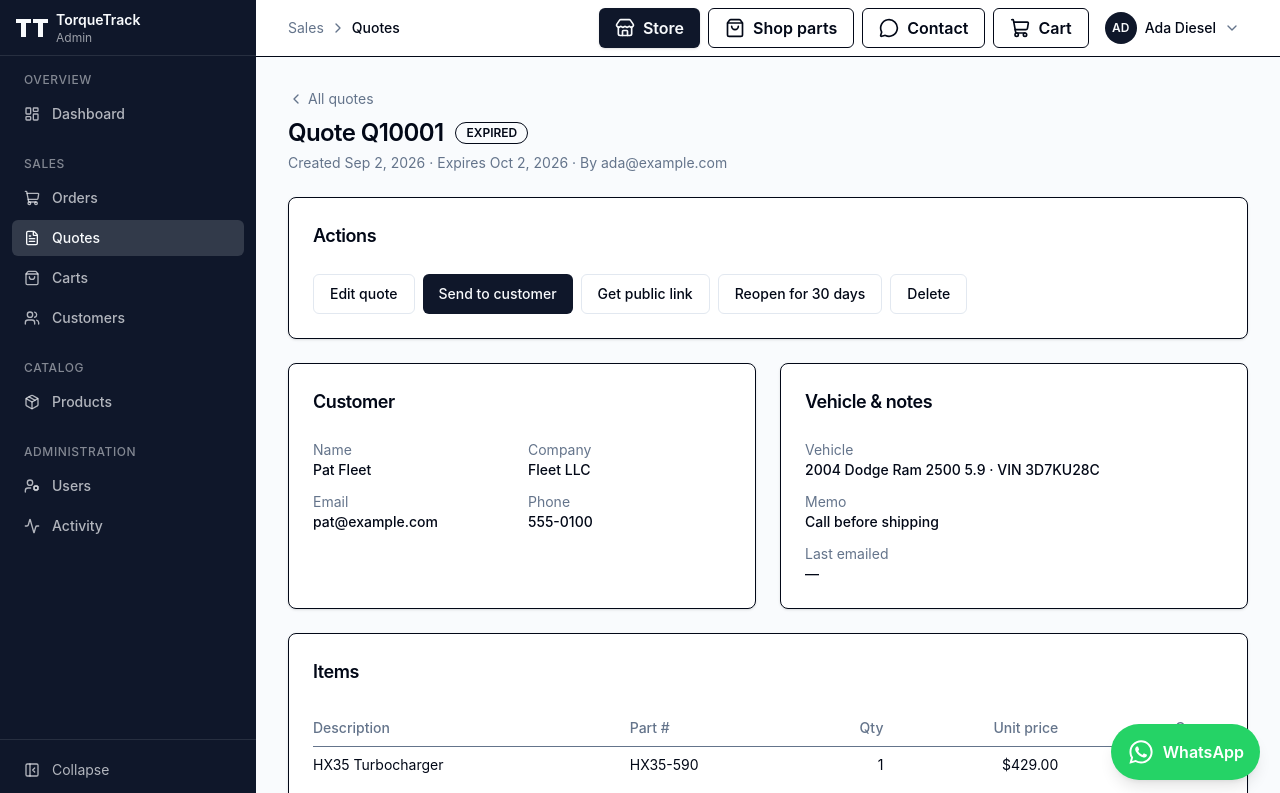
Scenario: QuoteDetailPage › reopens an expired quote instead of converting it
The width and height of the screenshot is (1280, 793).
Expected: the heading "Quote Q10001" is shown, [288,117,444,149]
Expected: the button "Convert to order" is not shown
Click the button "Reopen for 30 days".
click(800, 294)  # box [718,274,882,314]
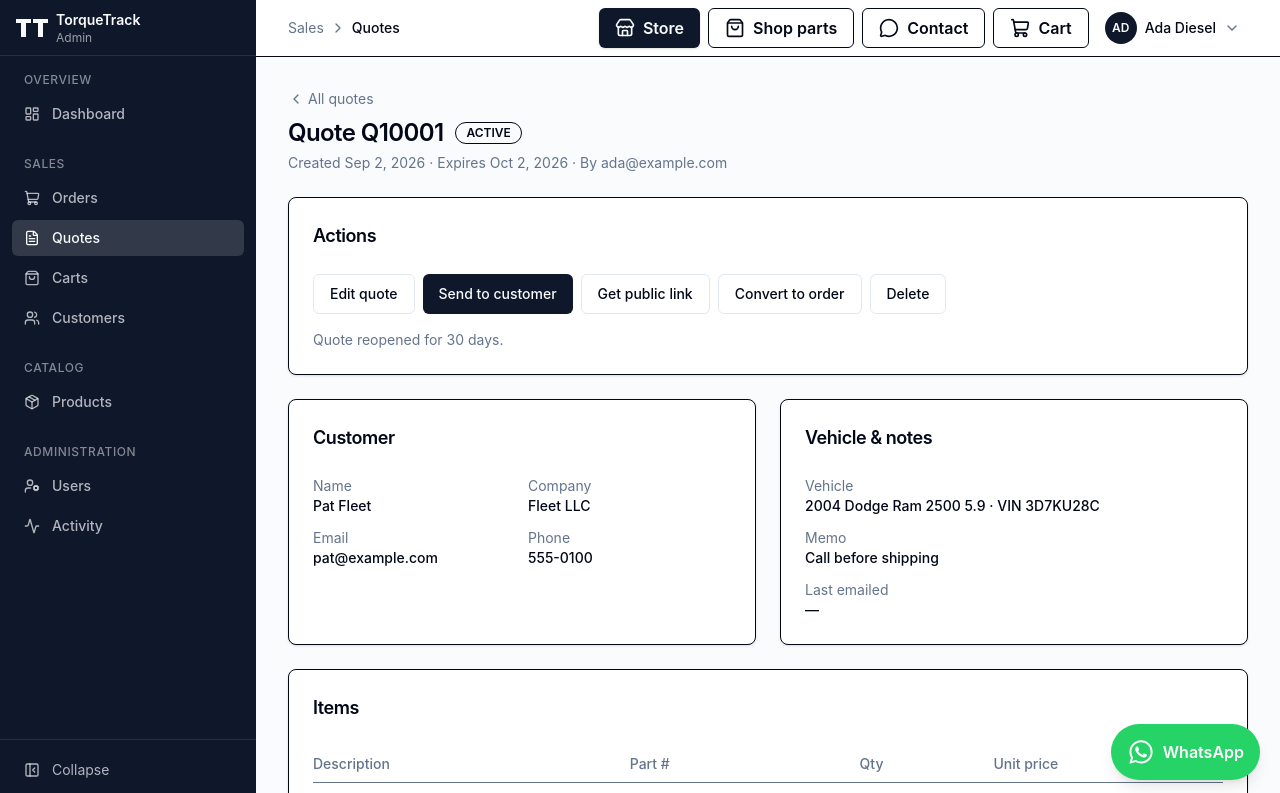
Result: the text "Quote reopened for 30 days." is shown at [313,331,504,348]
